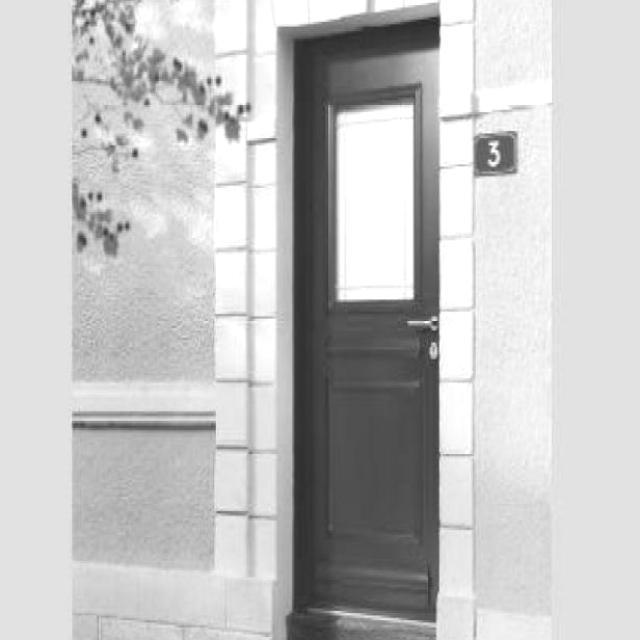door: (289, 12, 441, 629)
